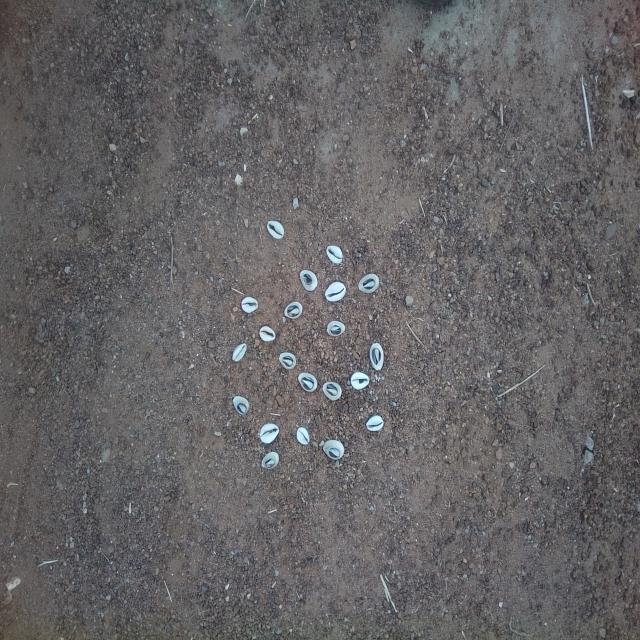facedown: (320, 437, 348, 463), (356, 270, 381, 297), (367, 340, 386, 374), (258, 449, 284, 473), (230, 392, 253, 418), (298, 269, 321, 294), (321, 378, 344, 403), (277, 348, 299, 372), (324, 318, 349, 339), (282, 300, 305, 322), (297, 372, 320, 394)
faceup: (363, 410, 391, 435), (256, 420, 282, 446), (264, 218, 288, 244), (324, 280, 349, 303), (240, 294, 262, 317), (229, 341, 250, 365), (348, 370, 372, 391), (294, 424, 314, 449), (325, 244, 347, 266), (258, 322, 280, 344)
